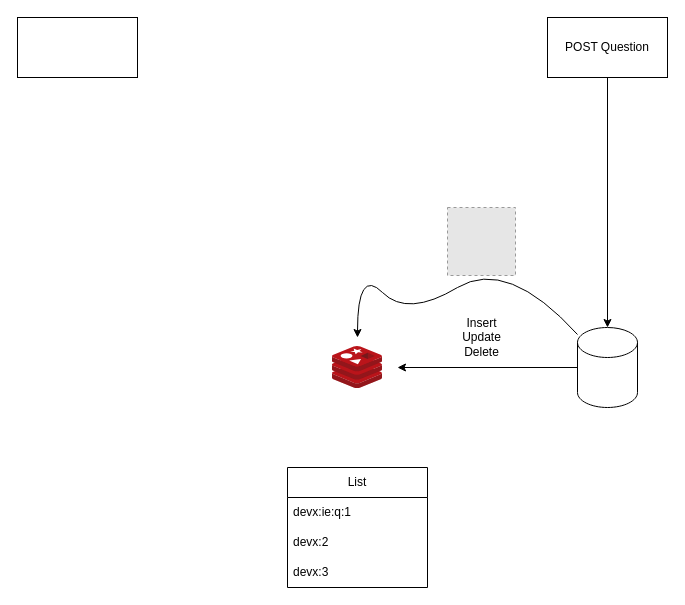
Image size: 685x605. Some labels were removed from this diagram. Grey dashed boxes stand in for pictures. Here are the shapes that lost their labels. From the top down, the centre of each, then its label:
At (77,47): "GET All Questions".
At (607,367): "PG DB".
